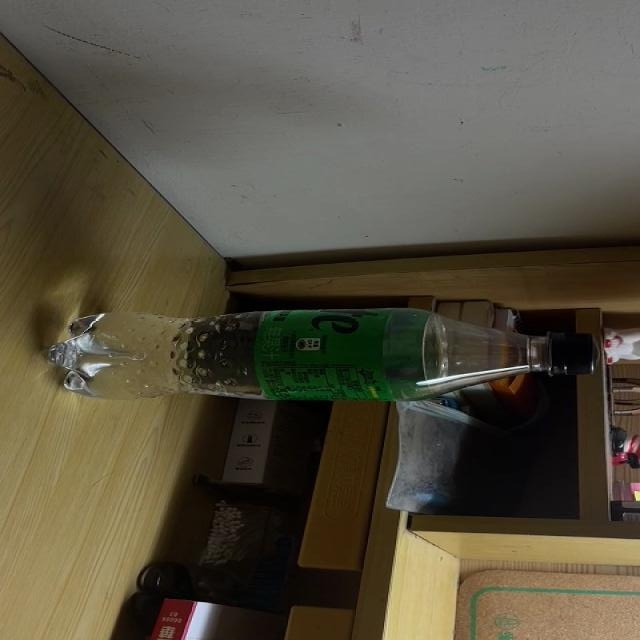Sprite: (44, 306, 598, 401)
